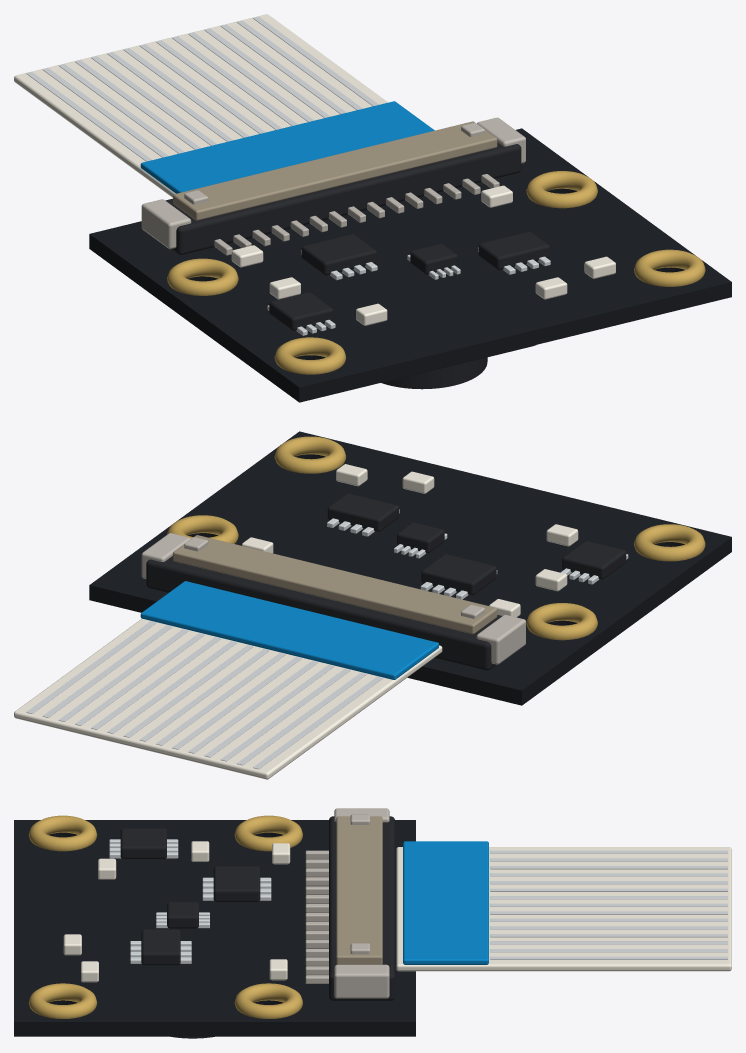
File: components-36.glb
3 views of the same model, one above another, from view 1: azimuth 30°, elevation 25°; view 2: azimuth 150°, elevation 25°; view 3: azimuth 270°, elevation 25° (orthographic). The views are drawn at different scales.
Visible parts, largest first — view 1: board, ribbon, connector, electronics, latch, mounting, optics; view 2: board, ribbon, electronics, latch, connector, mounting; view 3: board, ribbon, electronics, connector, mounting, latch.
Part boxes in pixels (bbox=[...]): board: bbox=[89, 128, 731, 402]; ribbon: bbox=[14, 14, 434, 197]; connector: bbox=[141, 117, 525, 255]; electronics: bbox=[231, 185, 615, 335]; latch: bbox=[173, 121, 497, 220]; mounting: bbox=[167, 171, 705, 374]; optics: bbox=[381, 345, 535, 389]; board: bbox=[89, 431, 731, 705]; ribbon: bbox=[14, 581, 442, 779]; electronics: bbox=[242, 464, 628, 617]; latch: bbox=[173, 535, 497, 634]; connector: bbox=[141, 533, 525, 670]; mounting: bbox=[167, 436, 705, 640]; board: bbox=[14, 820, 415, 1036]; ribbon: bbox=[396, 841, 731, 971]; electronics: bbox=[63, 828, 290, 982]; connector: bbox=[305, 808, 394, 1000]; mounting: bbox=[28, 815, 302, 1018]; latch: bbox=[336, 814, 382, 964].
Bounding box in the file's own units: 1.95 × 0.6195 × 2.93.
